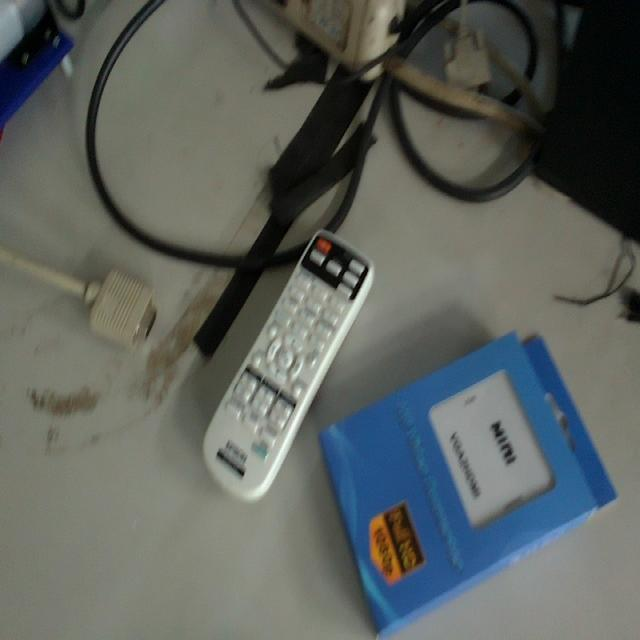remote: (322, 330, 624, 640), (205, 235, 376, 498)
